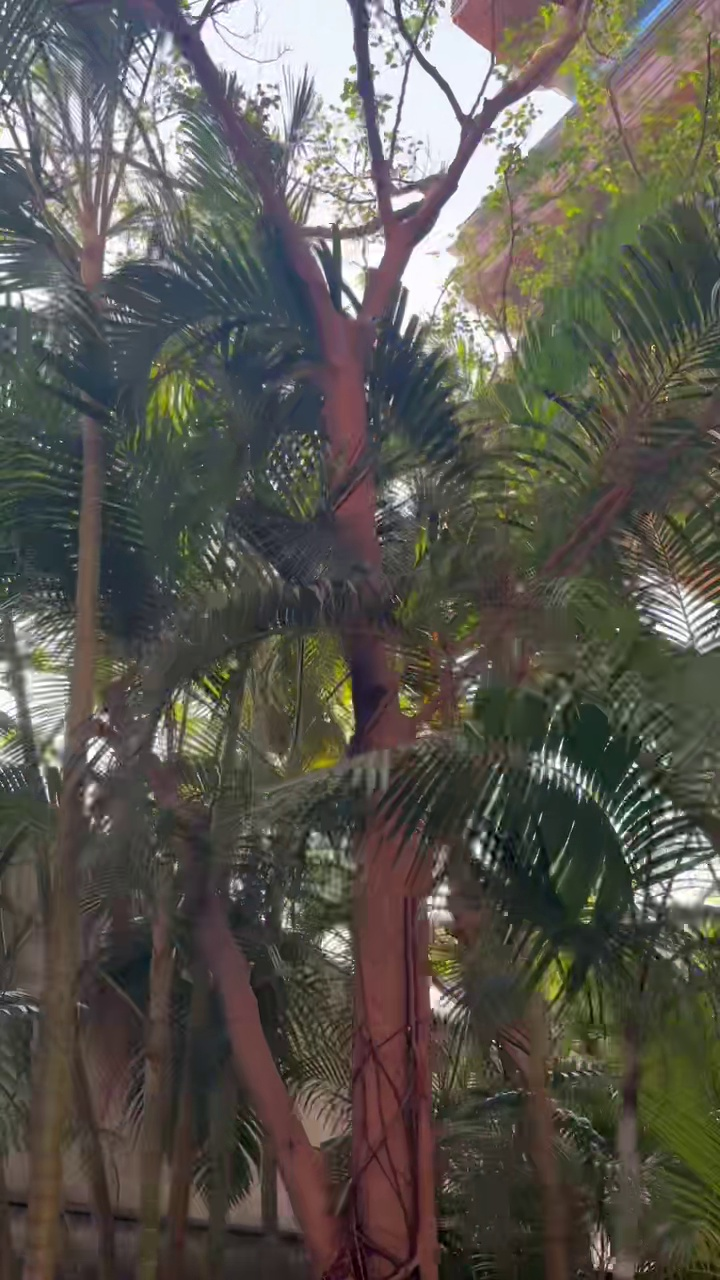Ficus benjamina: (166, 0, 576, 1279)
